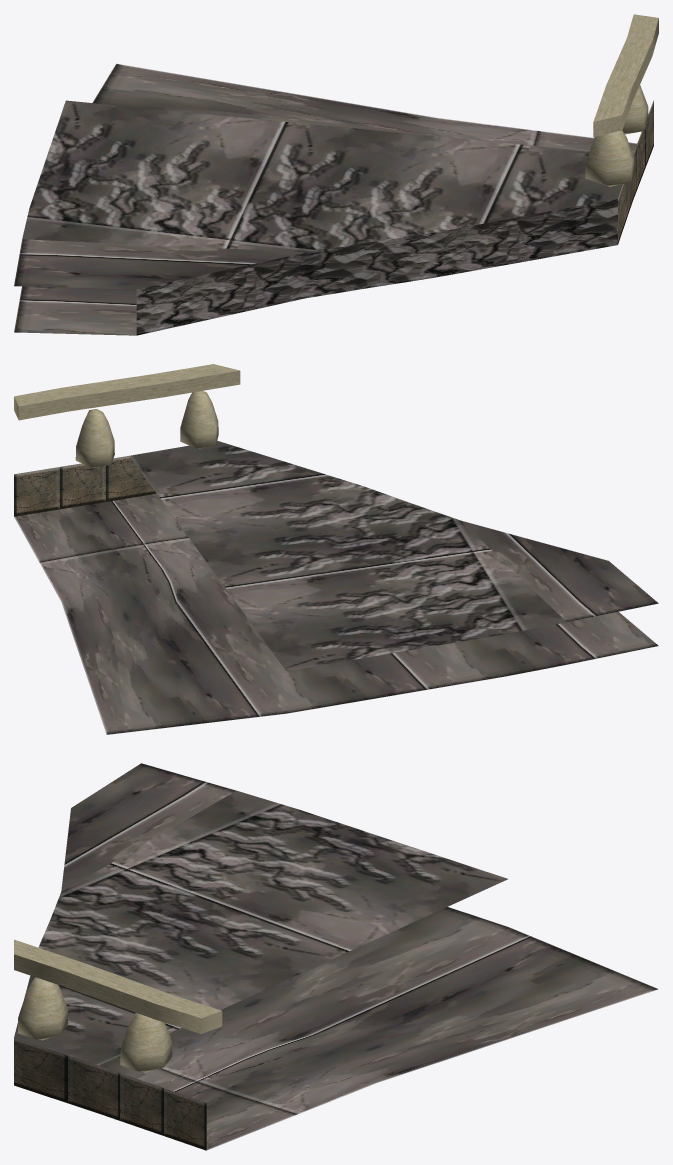
File: CH09_SMAUG_PLAYSURFACE_LAIR54.fbx
3 renders of one model, top to bottom at view 1: azimuth 30°, elevation 25°; view 2: azimuth 150°, elevation 25°; view 3: azimuth 270°, elevation 25°, orthographic. The views are drawn at different scales.
Parts seen in each view (by area): view 1: CH09_SMAUG_PLAYSURFACE_LAIR54; view 2: CH09_SMAUG_PLAYSURFACE_LAIR54; view 3: CH09_SMAUG_PLAYSURFACE_LAIR54.
Boxes of the visible parts, x1,y1,x2,y2 form: CH09_SMAUG_PLAYSURFACE_LAIR54: (14,14,658,335); CH09_SMAUG_PLAYSURFACE_LAIR54: (14,364,658,734); CH09_SMAUG_PLAYSURFACE_LAIR54: (14,763,658,1150).
Size of the model in its own units: 93020 by 16994 by 74409.
5 materials, 5 textured.
